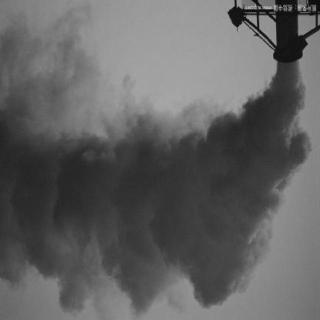Smoke: (252, 63, 310, 219)
